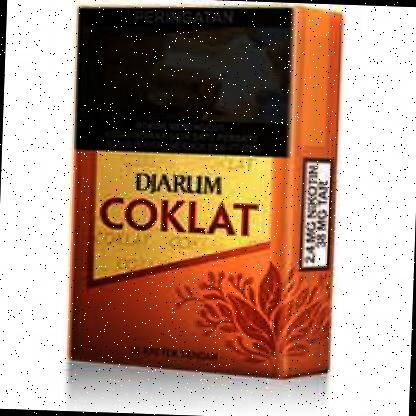bungkus rokok: (60, 0, 349, 380)
